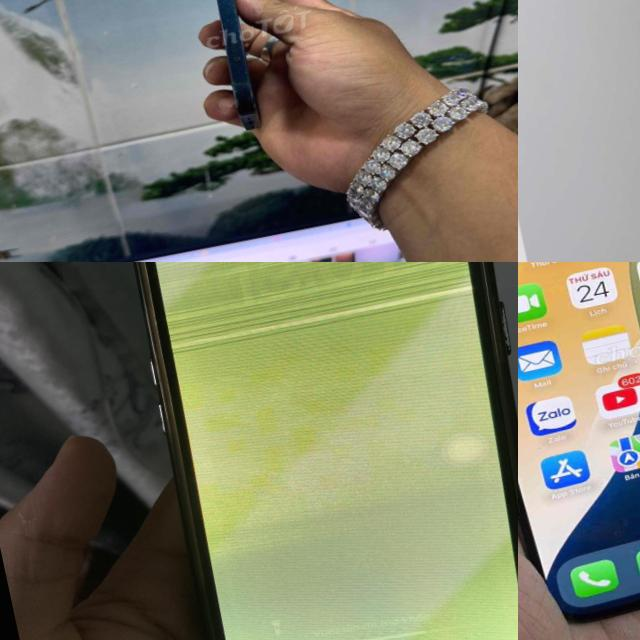scratch: (195, 0, 256, 74)
screen_defect: (165, 304, 506, 504), (194, 445, 518, 640), (137, 262, 476, 364)
